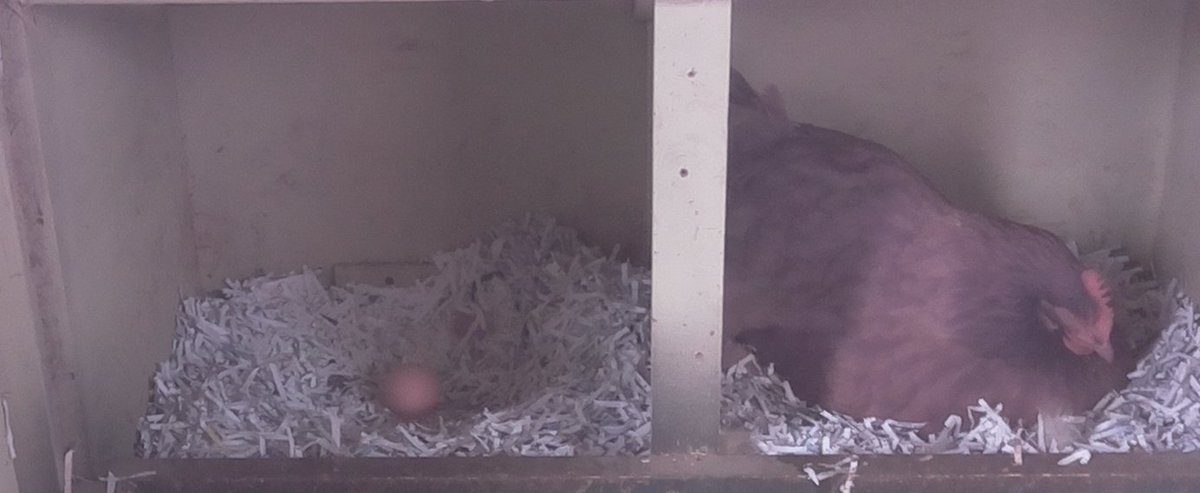egg: (372, 356, 449, 429)
hen: (734, 74, 1144, 448)
